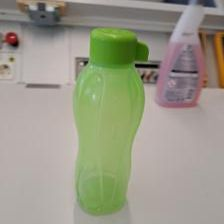bottle: (75, 23, 148, 214)
